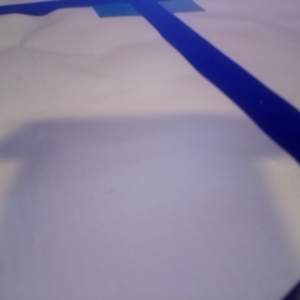bottom_left: (154, 23, 243, 48)
